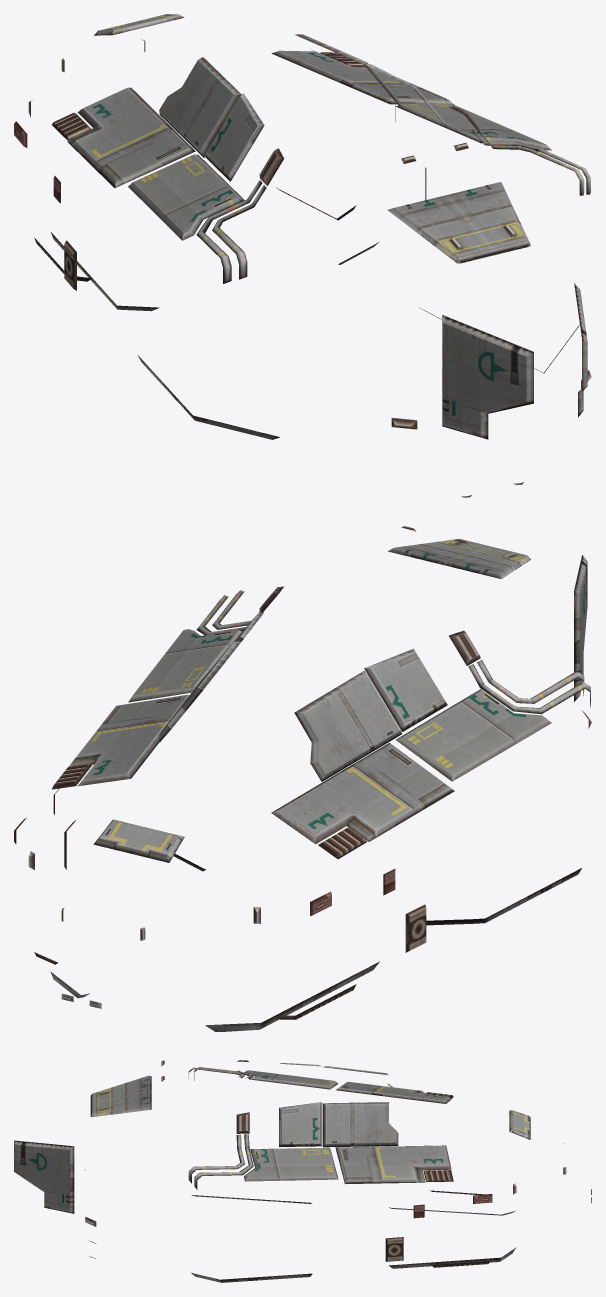
File: tan_pf_defe_01_t1.glb
3 views of the same model, one above another, from view 1: azimuth 30°, elevation 25°; view 2: azimuth 150°, elevation 25°; view 3: azimuth 270°, elevation 25° (orthographic). The views are drawn at different scales.
Parts seen in each view (by area): view 1: tan_turret_platform_01_LOD0; view 2: tan_turret_platform_01_LOD0; view 3: tan_turret_platform_01_LOD0.
Part boxes in pixels (box(x1,y1,x2,y2)): tan_turret_platform_01_LOD0: box(14, 14, 591, 497); tan_turret_platform_01_LOD0: box(14, 526, 591, 1031); tan_turret_platform_01_LOD0: box(14, 1060, 591, 1282).
Size of what is drawn, in the model's own units: 2.45 by 1.8 by 5.2.
Materials: 1 (1 with a texture image).
